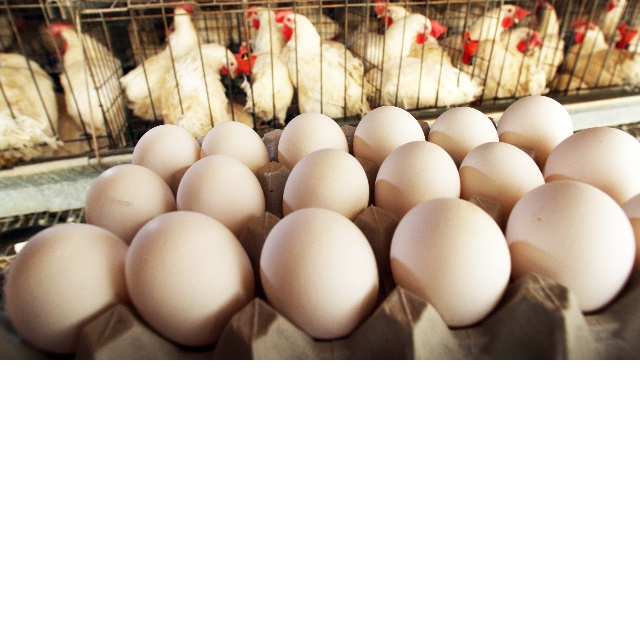trung_ga: (118, 208, 253, 345), (500, 179, 637, 313), (253, 207, 383, 342), (2, 219, 133, 348), (388, 196, 515, 328), (541, 124, 640, 207), (175, 153, 269, 238), (369, 139, 463, 223), (81, 163, 175, 239), (280, 147, 371, 224), (461, 138, 548, 206), (497, 93, 575, 161), (424, 103, 505, 165), (349, 102, 429, 162), (199, 118, 272, 179), (130, 122, 199, 185), (275, 110, 349, 168)
